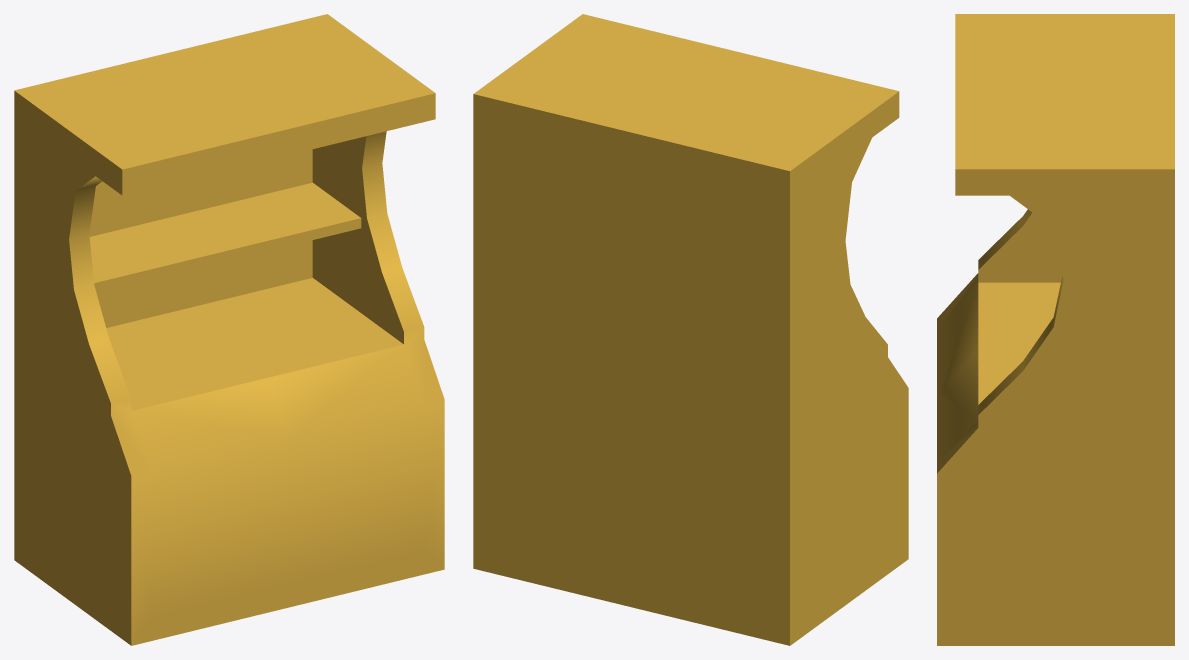
Rendered from cabinet.fbx.
3 views of the same model, side by side, from view 1: azimuth 30°, elevation 25°; view 2: azimuth 150°, elevation 25°; view 3: azimuth 270°, elevation 25° (orthographic).
Visible parts, largest first — view 1: Cabinet; view 2: Cabinet; view 3: Cabinet.
Boxes of the visible parts, left/top/right/bottom form: Cabinet: left=14, top=14, right=444, bottom=645; Cabinet: left=473, top=14, right=908, bottom=645; Cabinet: left=937, top=14, right=1174, bottom=645.
Bounding box in the file's own units: 1.5 × 0.9728 × 2.15.
